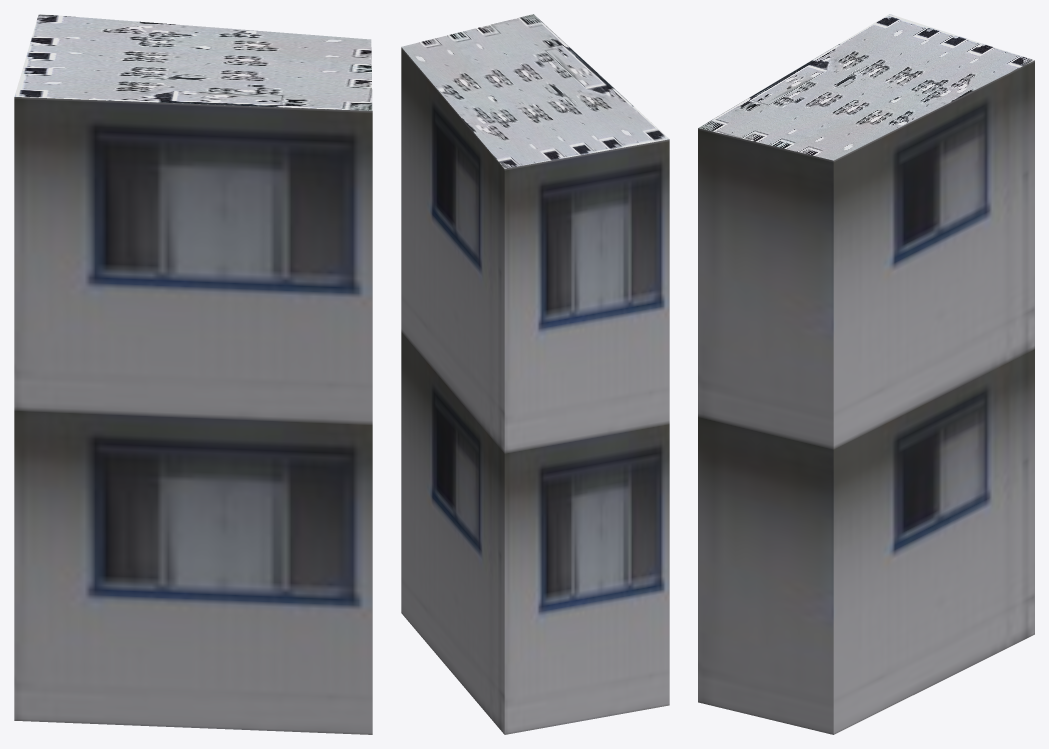
File: ResTex__2848.fbx
3 views of the same model, side by side, from view 1: azimuth 30°, elevation 25°; view 2: azimuth 150°, elevation 25°; view 3: azimuth 270°, elevation 25° (orthographic). The views are drawn at different scales.
Parts seen in each view (by area): view 1: CityEngineMaterial_9_m, CityEngineMaterial_8_m; view 2: CityEngineMaterial_9_m, CityEngineMaterial_8_m; view 3: CityEngineMaterial_9_m, CityEngineMaterial_8_m.
Part boxes in pixels (left/top/right/bottom): CityEngineMaterial_9_m: left=14, top=97, right=372, bottom=734; CityEngineMaterial_8_m: left=14, top=14, right=372, bottom=110; CityEngineMaterial_9_m: left=401, top=47, right=669, bottom=734; CityEngineMaterial_8_m: left=401, top=14, right=669, bottom=168; CityEngineMaterial_9_m: left=698, top=60, right=1034, bottom=734; CityEngineMaterial_8_m: left=698, top=14, right=1034, bottom=160.
Bounding box in the file's own units: 3.29 × 6 × 3.19.
Materials: 2 (2 with a texture image).
